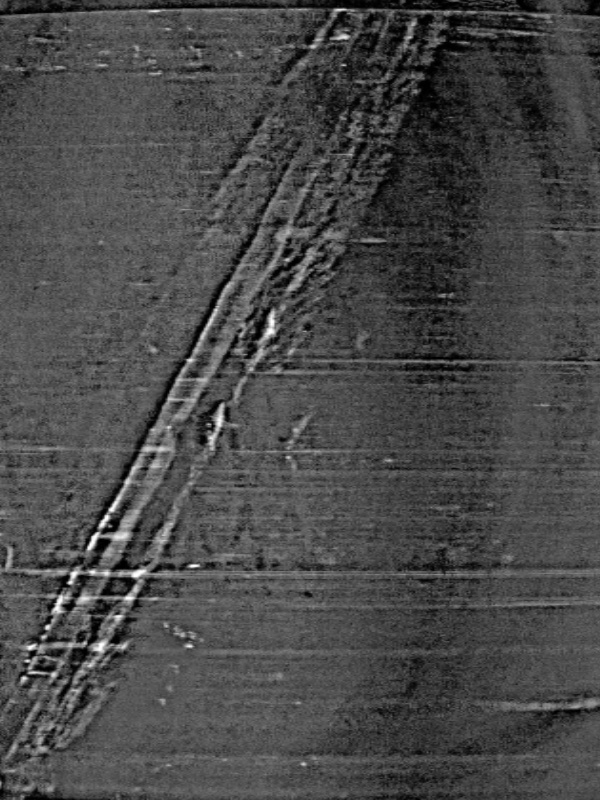splice_vulcanized: (1, 9, 447, 800)
